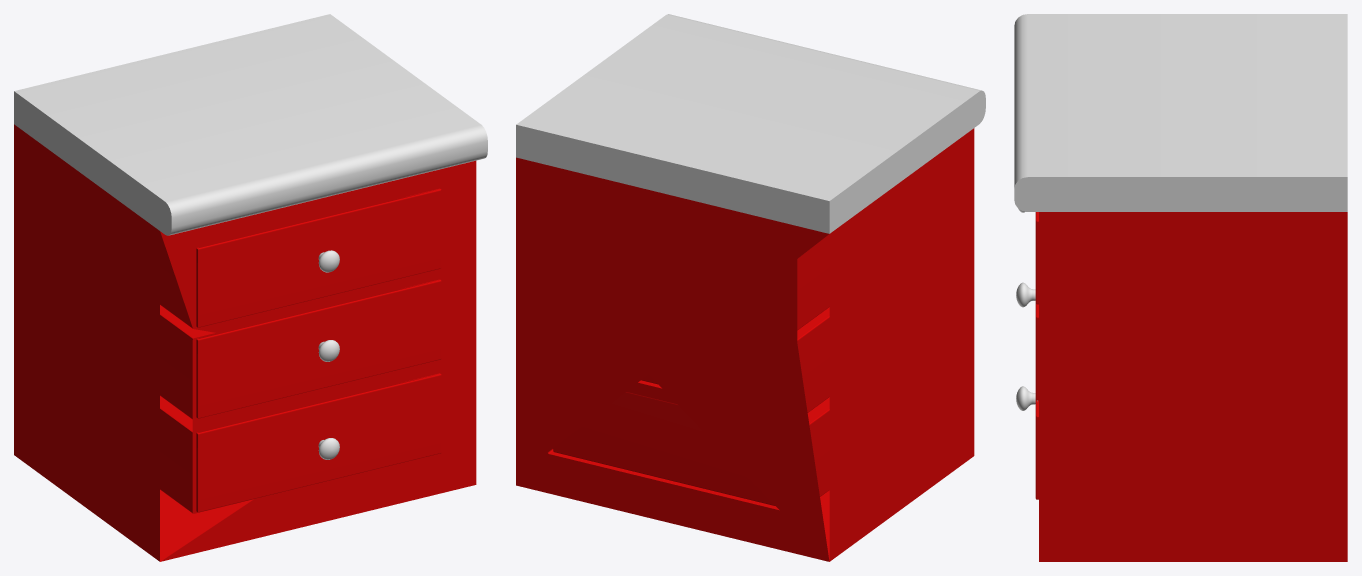
File: bench_wDrawers_03.fbx
The picture shows the model from 3 angles, left to right: view 1: azimuth 30°, elevation 25°; view 2: azimuth 150°, elevation 25°; view 3: azimuth 270°, elevation 25°; orthographic projection. The views are drawn at different scales.
Parts seen in each view (by area): view 1: Bench_wDrawers; view 2: Bench_wDrawers; view 3: Bench_wDrawers.
Part boxes in pixels (bbox=[...]): Bench_wDrawers: bbox=[14, 14, 487, 561]; Bench_wDrawers: bbox=[516, 14, 985, 561]; Bench_wDrawers: bbox=[1014, 14, 1347, 561].
Bounding box in the file's own units: 75 × 82.5 × 64.8.
